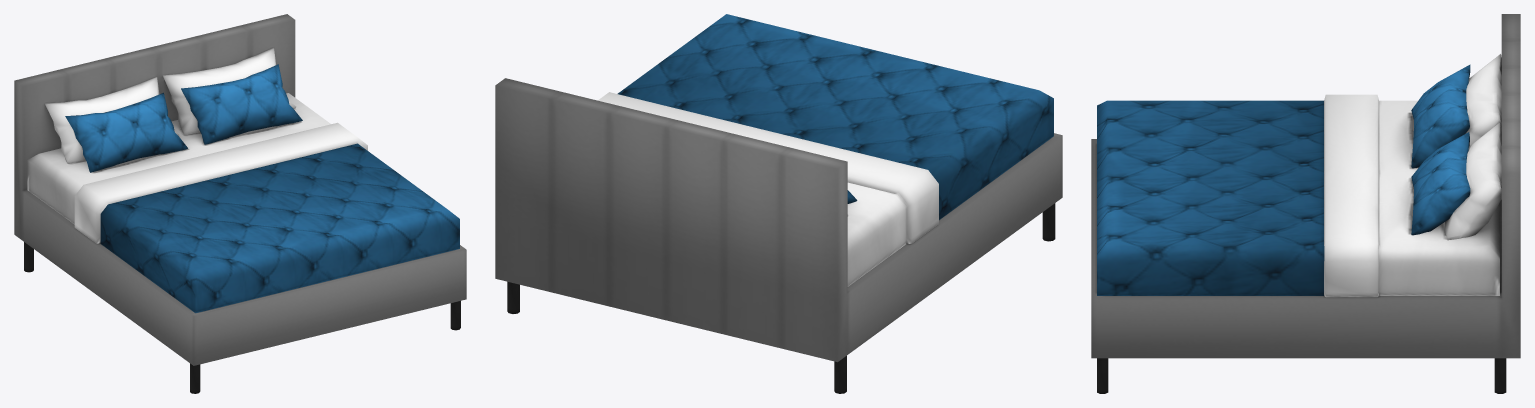
The model's file is bed2.glb.
3 views of the same model, side by side, from view 1: azimuth 30°, elevation 25°; view 2: azimuth 150°, elevation 25°; view 3: azimuth 270°, elevation 25° (orthographic). The views are drawn at different scales.
Visible parts, largest first — view 1: Object_10; view 2: Object_10; view 3: Object_10.
Part boxes in pixels (x1,y1,x2,y2): Object_10: (14,14,466,393); Object_10: (495,14,1062,393); Object_10: (1091,14,1520,393).
Bounding box in the file's own units: 3.75 × 2.43 × 4.26.
1 material, 1 textured.
